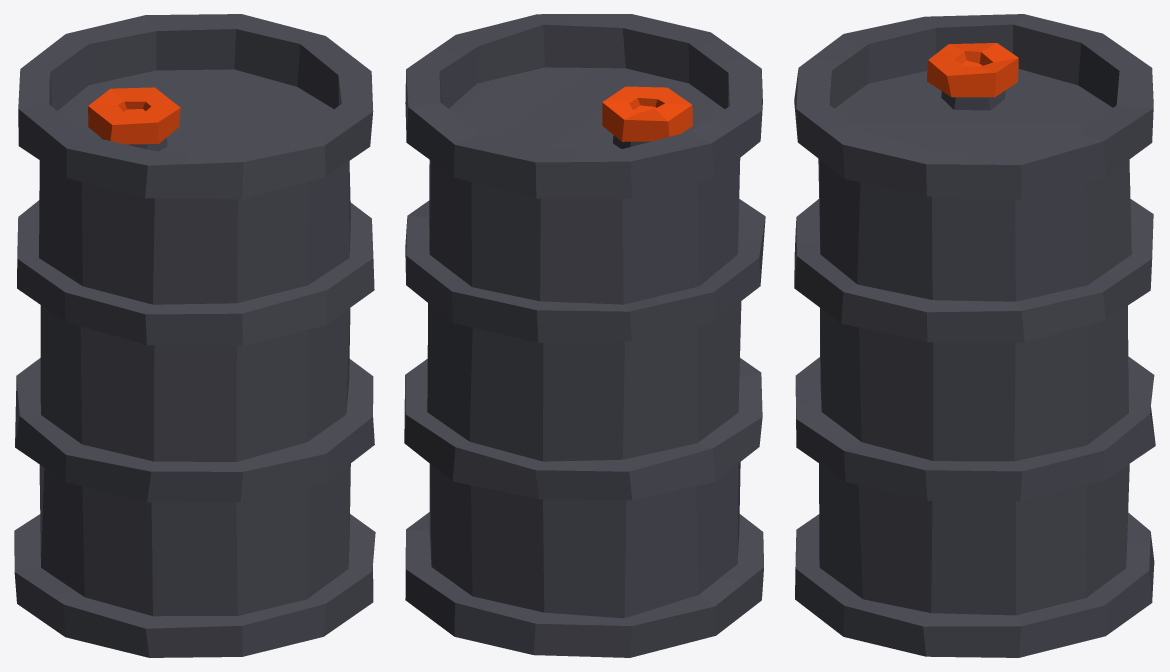
The model's file is Barrel_2_1.fbx.
3 renders of one model, left to right at view 1: azimuth 30°, elevation 25°; view 2: azimuth 150°, elevation 25°; view 3: azimuth 270°, elevation 25°, orthographic.
Visible parts, largest first — view 1: Barrel_2_1; view 2: Barrel_2_1; view 3: Barrel_2_1.
Part boxes in pixels (bbox=[...]): Barrel_2_1: bbox=[14, 14, 375, 657]; Barrel_2_1: bbox=[404, 14, 765, 657]; Barrel_2_1: bbox=[794, 14, 1155, 657].
Size of the model in its own units: 23.22 by 35.34 by 23.27.
